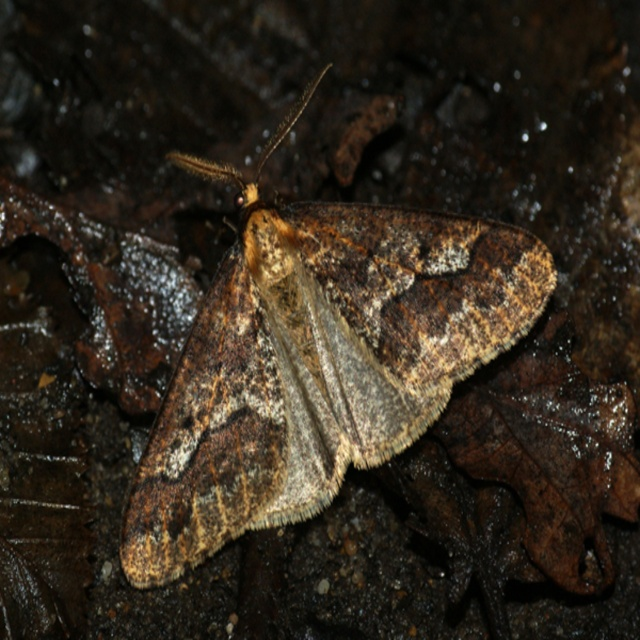Butterfly: (132, 30, 556, 584)
